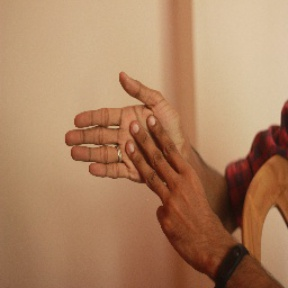M: (63, 67, 198, 218)
